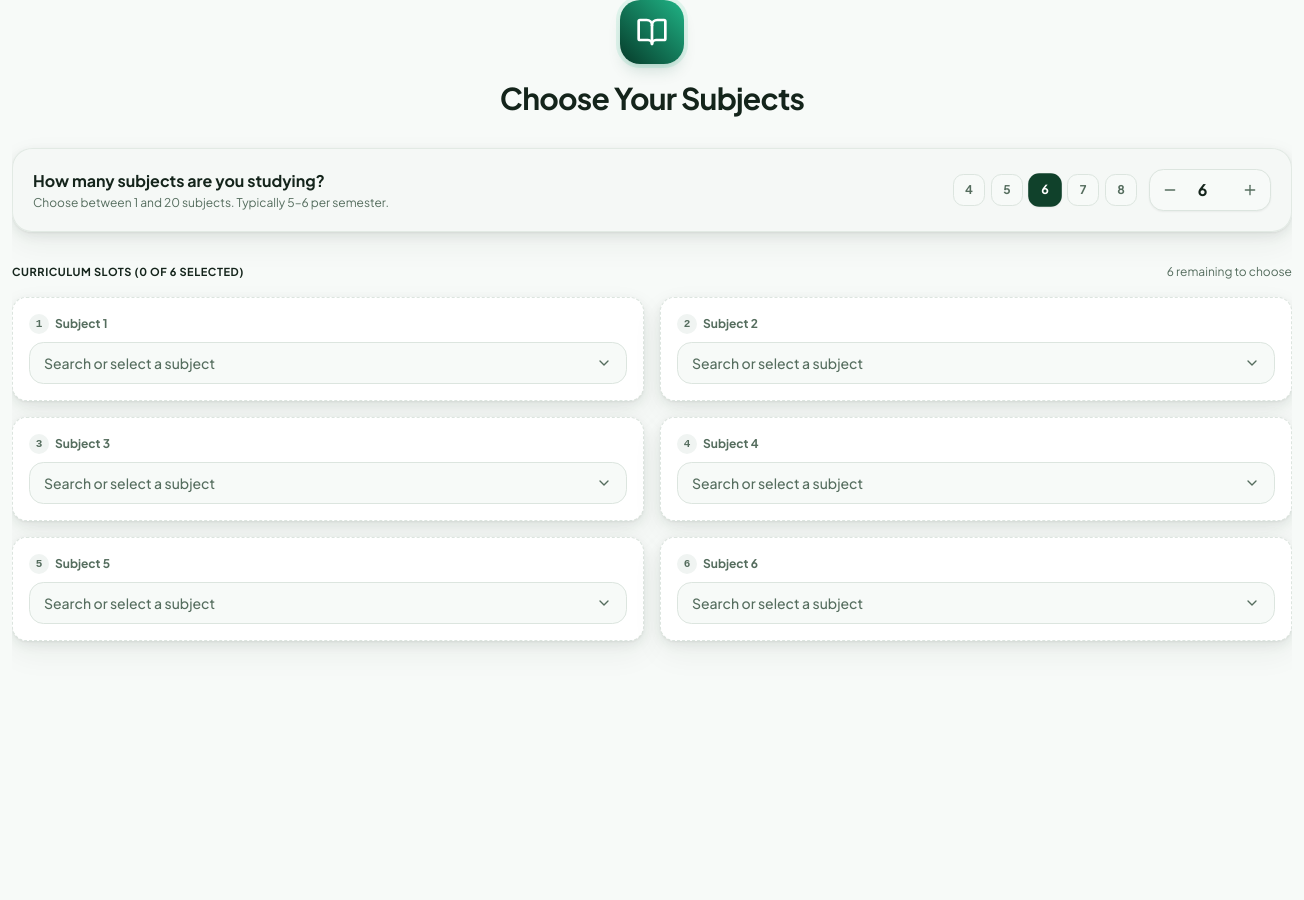
Scenario: ChooseSubjectsStep and Contextual Subject System › controls slot count with stepper and quick buttons
Check: the number field named "Subject count input" holds "6", box 1186,178 -> 1234,202
Check: the text "Subject 1" is shown, box 29,314 -> 108,334
Click quick pill 8
Click the button "8" at (1121, 190), box 1105,174 -> 1137,206
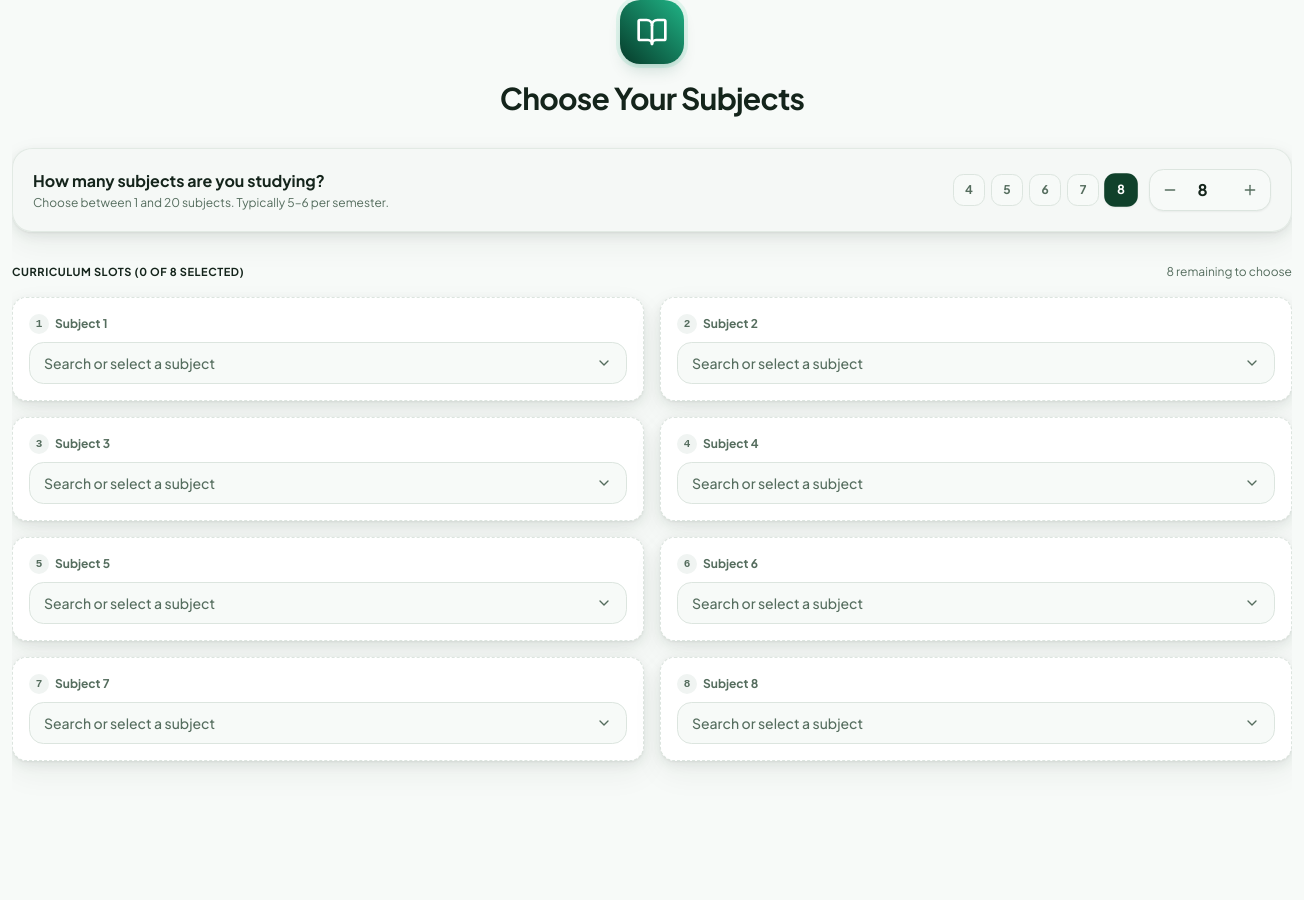
Check: the number field named "Subject count input" holds "8", box 1186,178 -> 1234,202
Check: the text "Subject 8" is shown, box 677,674 -> 758,694
